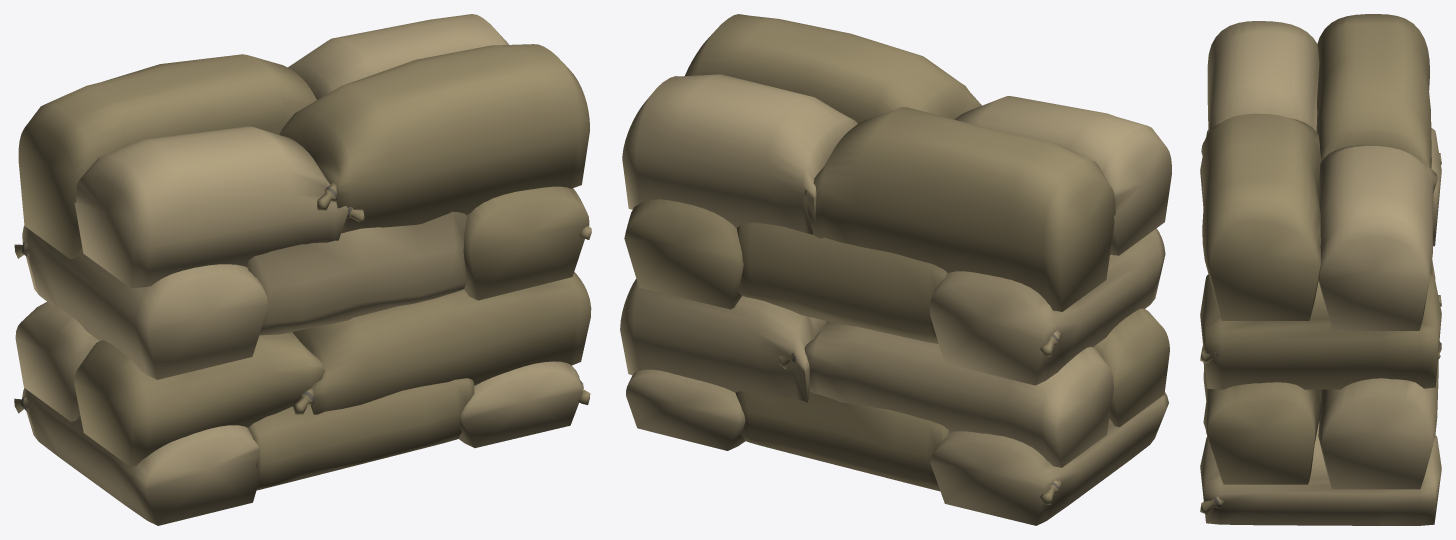
Rendered from sandbags_single.glb.
3 views of the same model, side by side, from view 1: azimuth 30°, elevation 25°; view 2: azimuth 150°, elevation 25°; view 3: azimuth 270°, elevation 25° (orthographic). The views are drawn at different scales.
Parts seen in each view (by area): view 1: sandbags_single; view 2: sandbags_single; view 3: sandbags_single.
Part boxes in pixels (x1,y1,x2,y2): sandbags_single: [14, 14, 591, 525]; sandbags_single: [620, 14, 1171, 525]; sandbags_single: [1200, 14, 1441, 525].
Bounding box in the file's own units: 1.2 × 0.9002 × 0.6.
